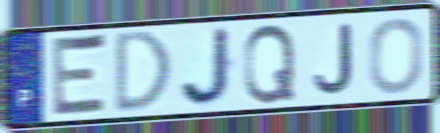D: (112, 28, 175, 116)
E: (50, 31, 110, 120)
J: (178, 25, 237, 110), (311, 21, 356, 97)
O: (366, 15, 425, 96)
Q: (241, 21, 297, 106)
